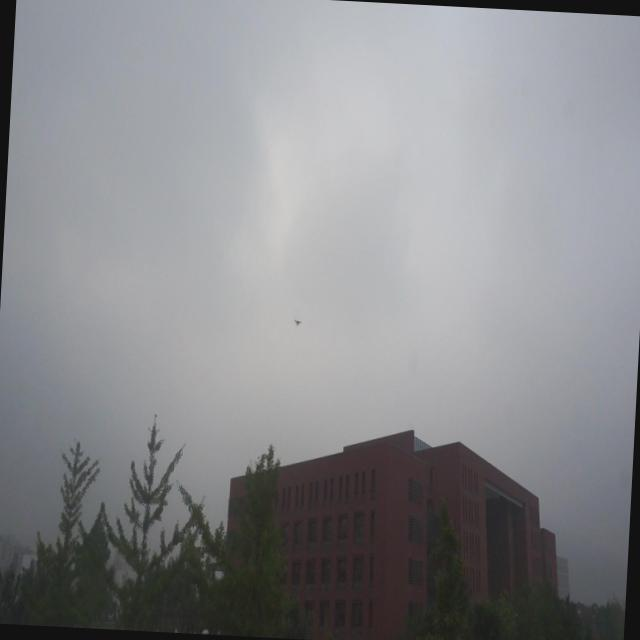drone: (290, 314, 305, 330)
